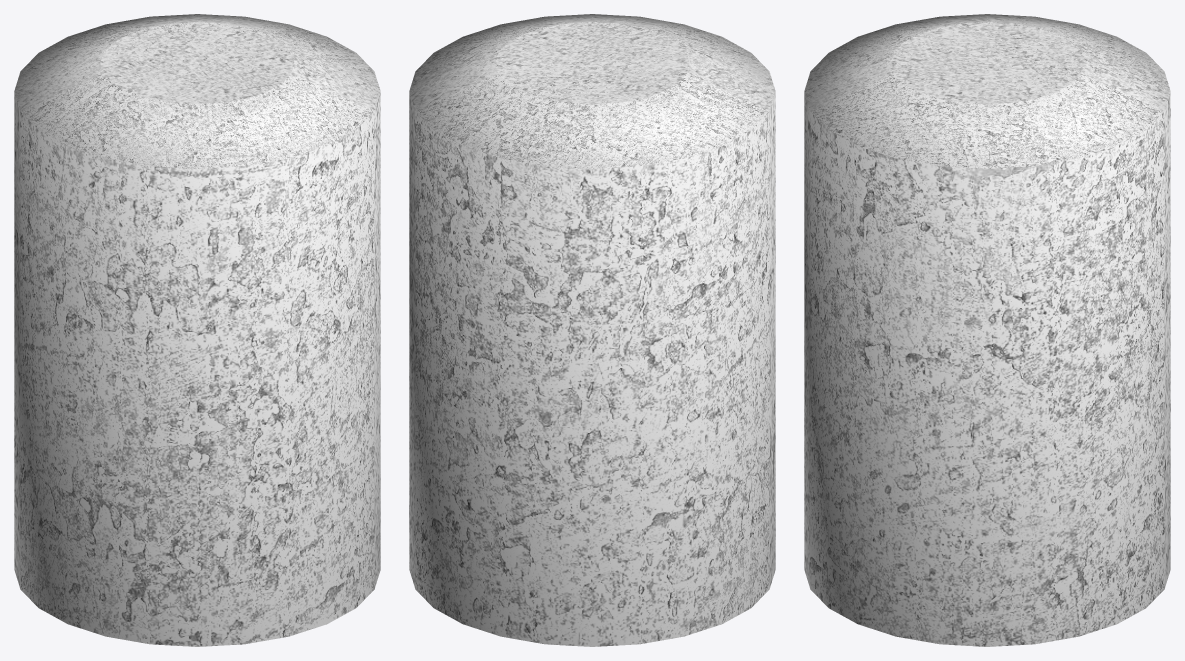
Rendered from TankRustVertical.fbx.
3 views of the same model, side by side, from view 1: azimuth 30°, elevation 25°; view 2: azimuth 150°, elevation 25°; view 3: azimuth 270°, elevation 25° (orthographic).
Parts seen in each view (by area): view 1: TankRusted; view 2: TankRusted; view 3: TankRusted.
Boxes of the visible parts, box(x1,y1,x2,y2) form: TankRusted: box(14, 14, 380, 646); TankRusted: box(409, 14, 775, 646); TankRusted: box(804, 14, 1170, 646).
Size of the model in its own units: 400 by 610 by 400.
Materials: 1 (1 with a texture image).
